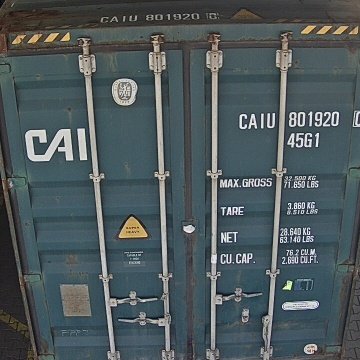serial_id: (239, 110, 360, 128)
